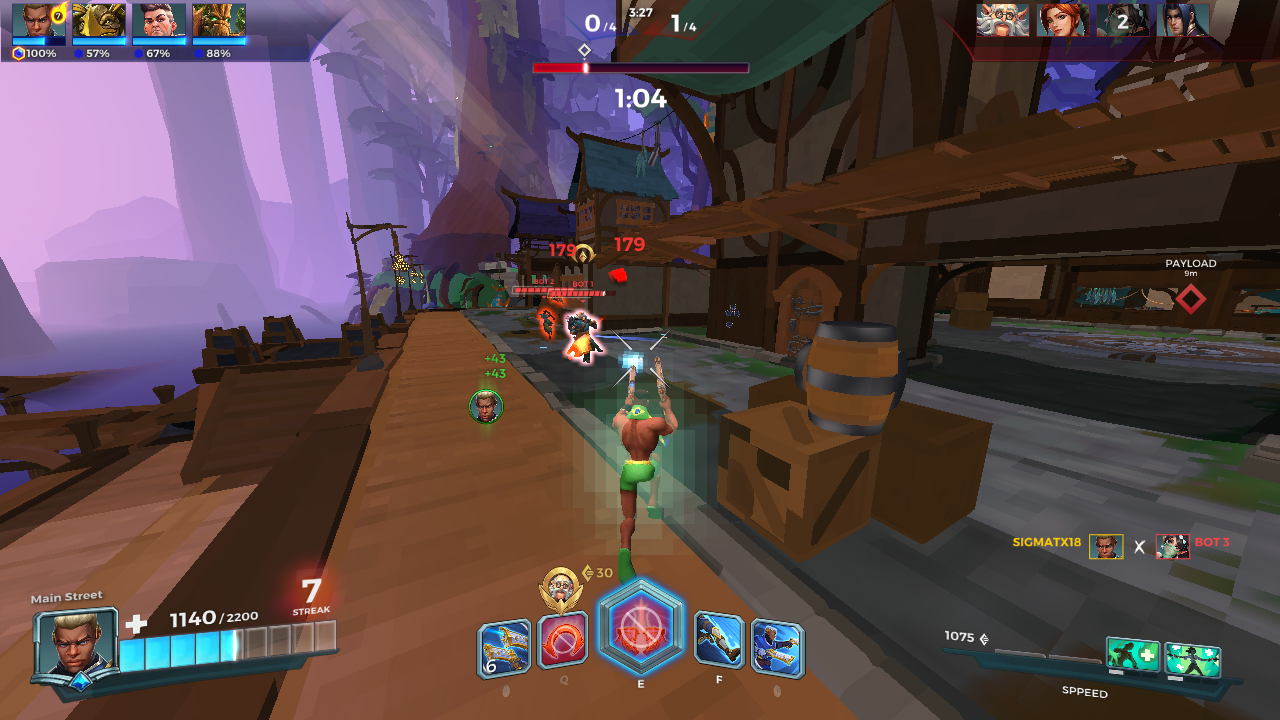model: (567, 308, 601, 363), (538, 307, 553, 339)
